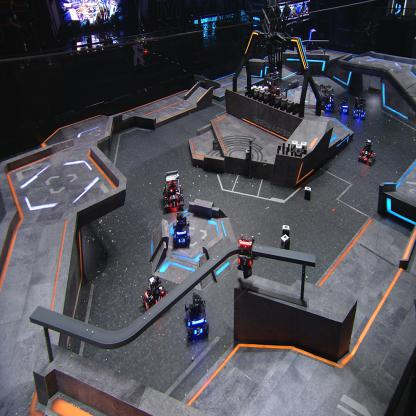car: (184, 292, 208, 340), (141, 275, 168, 313), (162, 168, 185, 212), (172, 212, 191, 248), (358, 138, 377, 165), (318, 83, 335, 113), (263, 70, 279, 97), (352, 97, 367, 121), (338, 96, 350, 115), (271, 87, 283, 105)
